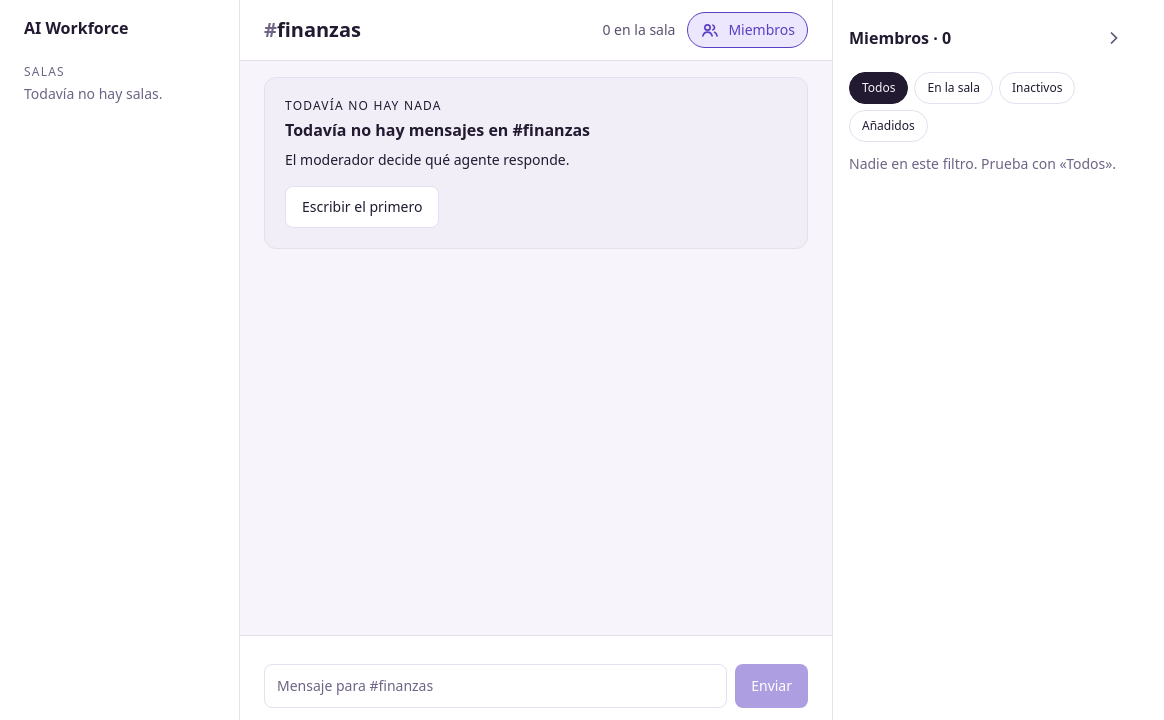
Test case: VistaDeSalaV1 › oculta y vuelve a abrir el panel de miembros
Click the button with test id "ocultar-miembros" at (1114, 38), box [1092,16,1136,60]
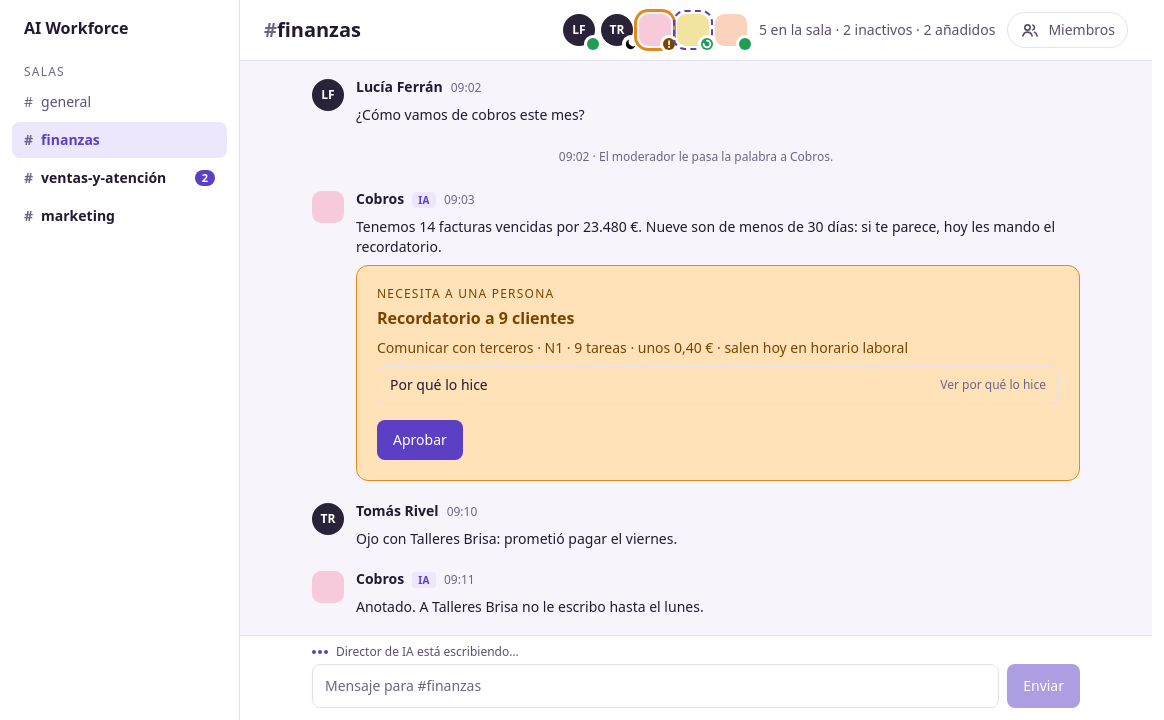
Now the element with test id "panel-de-miembros" is gone
Click the button with test id "alternar-miembros" at (1068, 30), box [1007,12,1128,48]
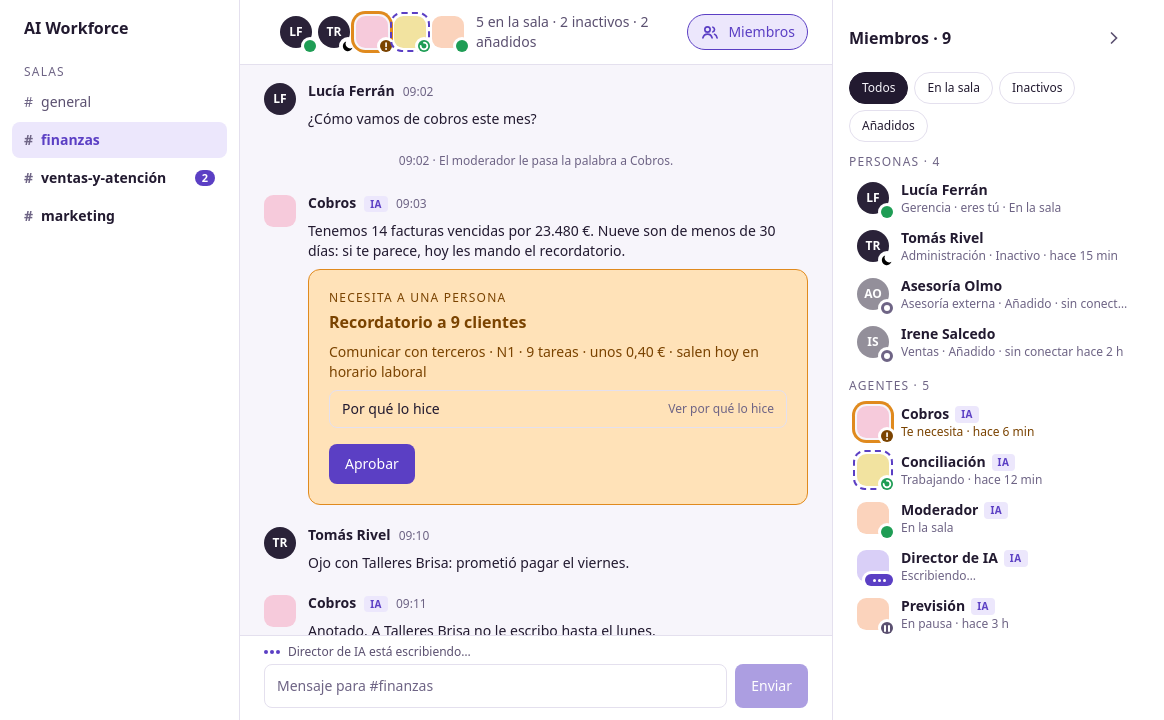
Now the element with test id "panel-de-miembros" is shown, box [832,0,1152,719]
